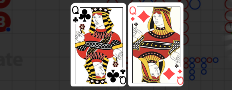9D: (128, 5, 136, 22)
